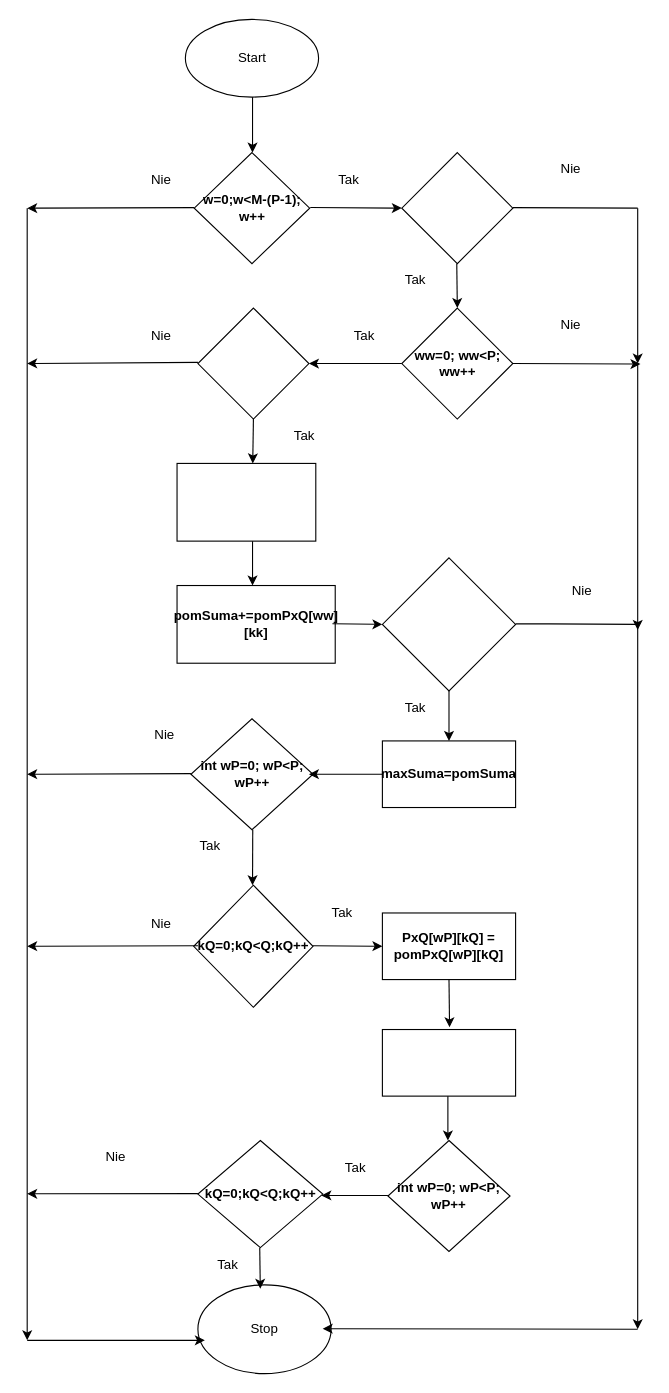
This 669x1393 diagram has some shape labels left out. Here are the shapes that lost their labels. From the top down, the centre of each, then its label:
(x=457, y=208): k=0;k<N-(Q-1); k++
(x=253, y=363): kk=0; kk<Q; kk++
(x=246, y=501): pomPxQ[ww][kk] = MxN[w+ww][k+kk]
(x=448, y=624): maxSuma>pomSuma
(x=448, y=1062): pomSuma=0
